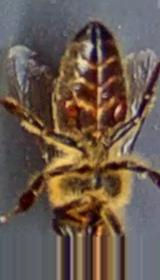varroa_mite: (98, 90, 140, 128), (46, 88, 80, 125)
